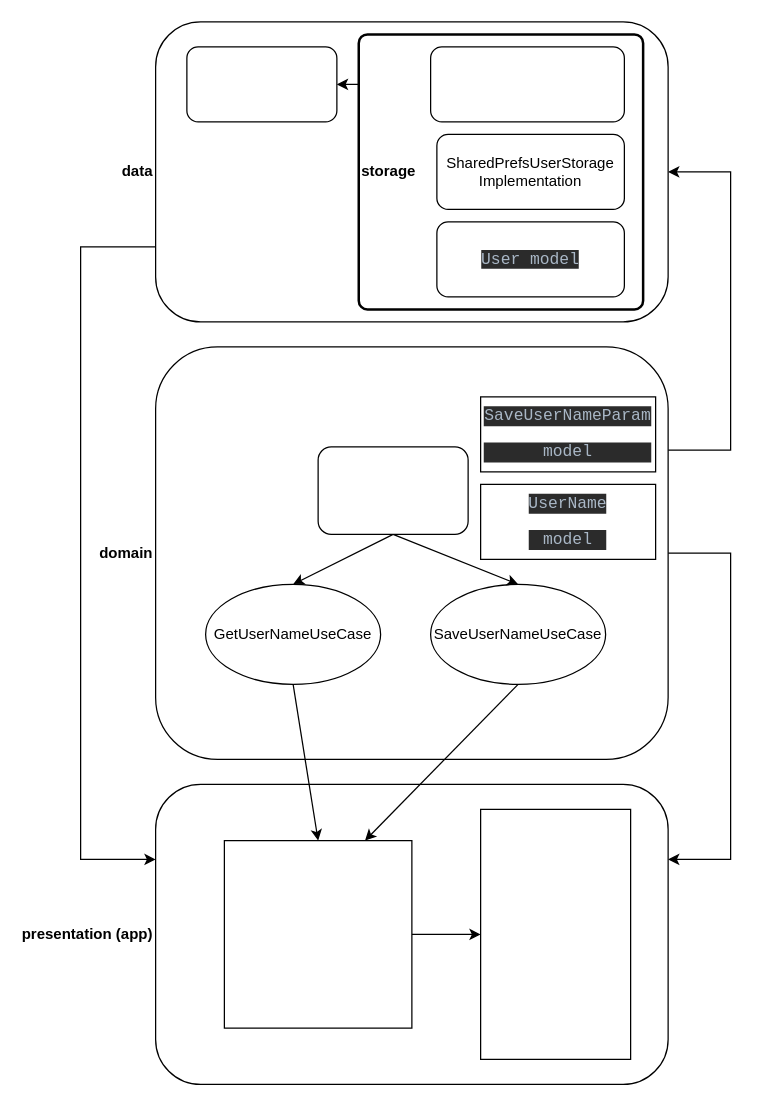
Image size: 763x1106. Some labels were removed from this diagram. The centre of each missing label's shape, as x and y in pixels:
Activity: point 555,933
UserRepository - Interface: point 392,490
UserRepository Implementation: point 261,84
UserStorage -Interface: point 526,84
ViewModel: point 317,933
